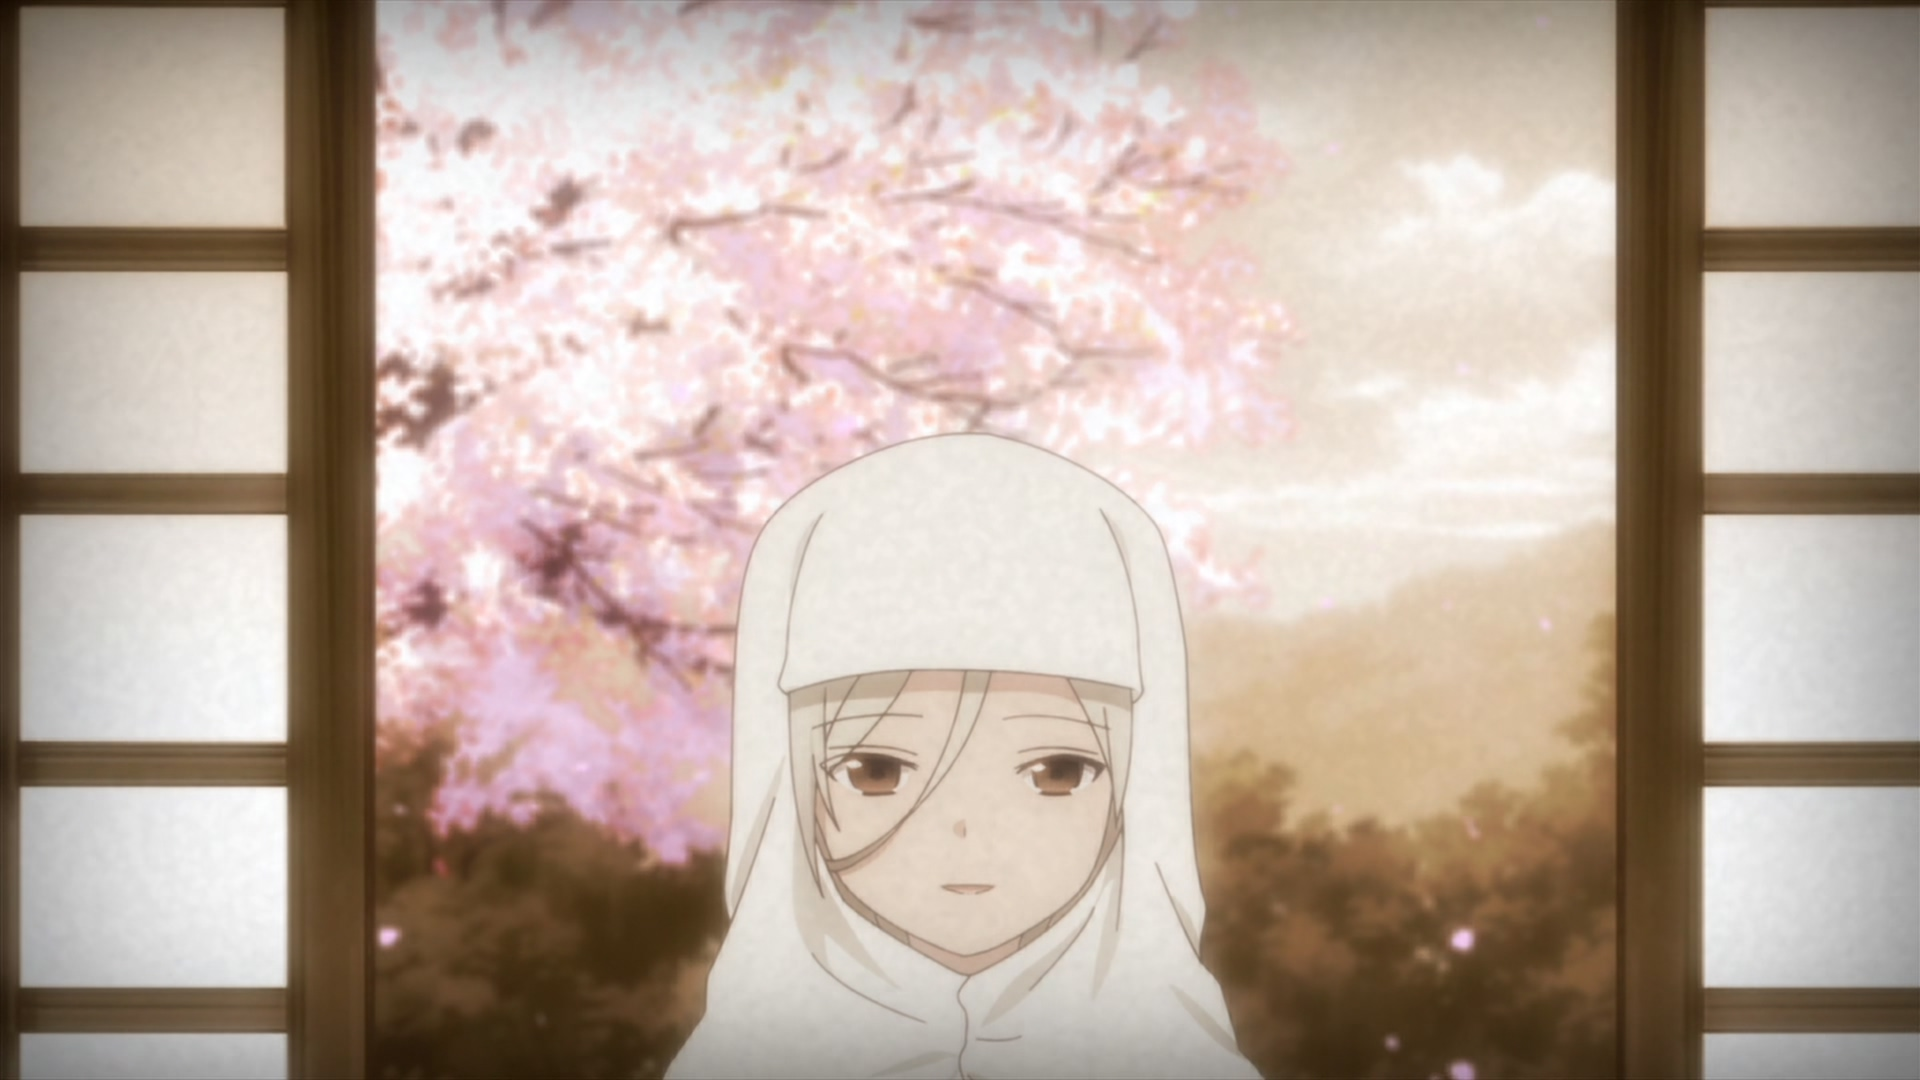八百比丘尼: (659, 431, 1261, 1080)
